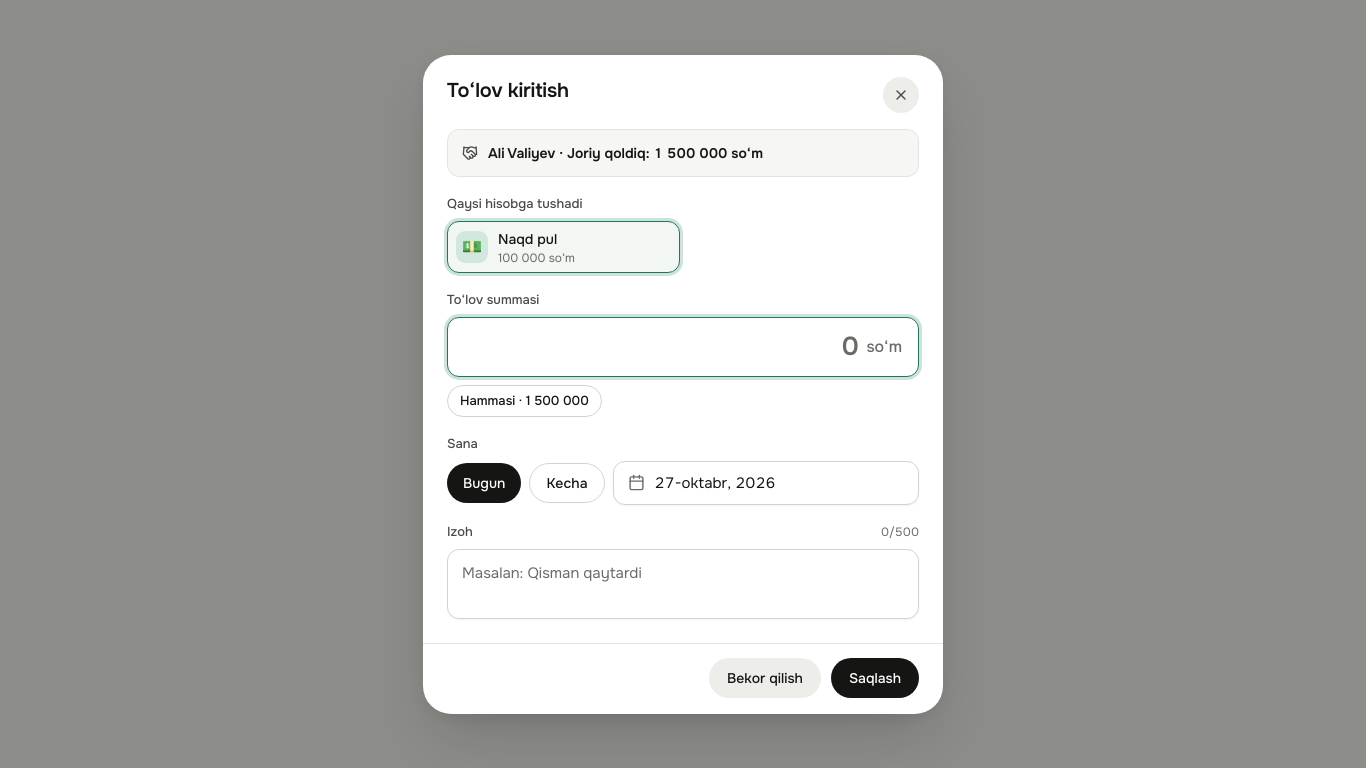
Scenario: DebtPaymentModal › refuses more than what is left before asking the API
Step 1. Type "2000000" into the field labelled "To‘lov summasi" → [661, 346], box x1=464 y1=318 x2=858 y2=376
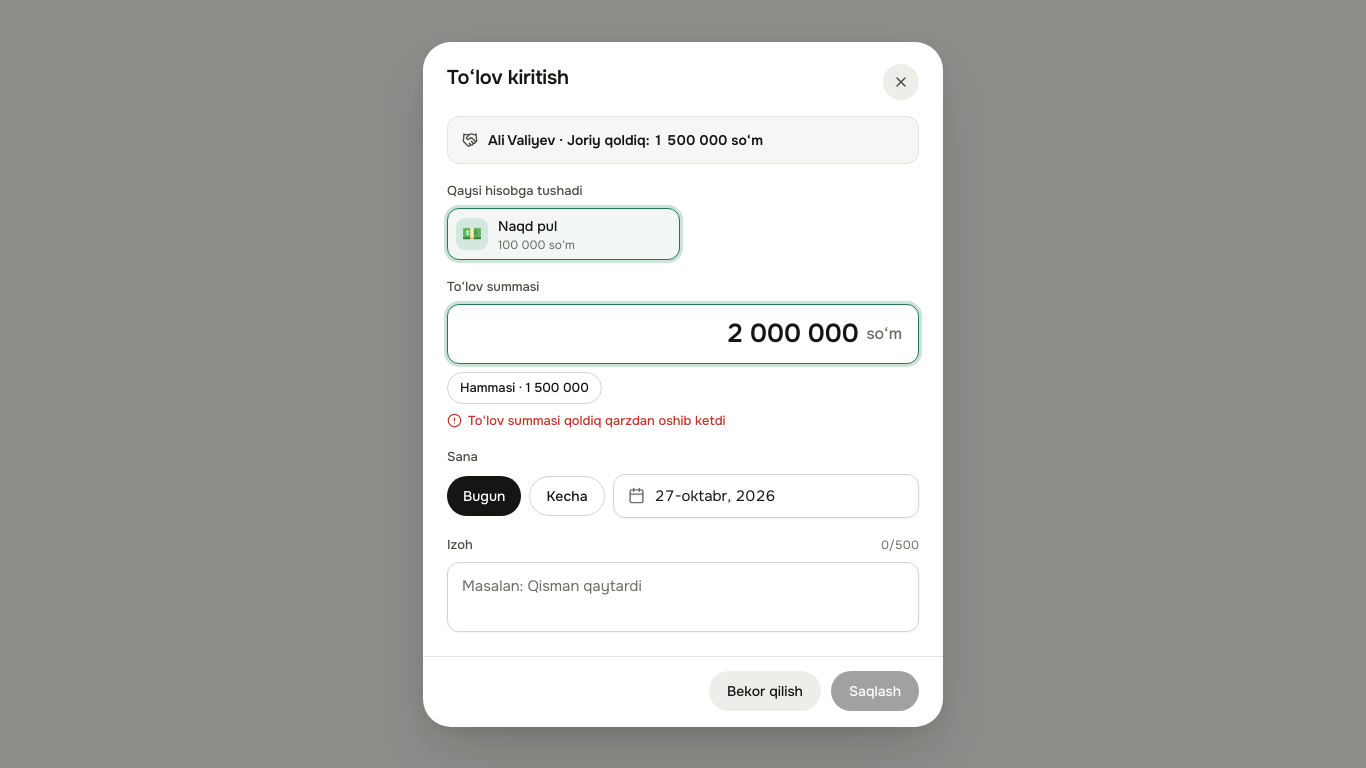
Now the message reads "To‘lov summasi qoldiq qarzdan oshib ketdi", box x1=468 y1=412 x2=726 y2=428
Now the button "Saqlash" is disabled, box x1=831 y1=670 x2=919 y2=710
Step 2. Click the button "Hammasi · 1 500 000" → [524, 388], box x1=447 y1=372 x2=602 y2=404
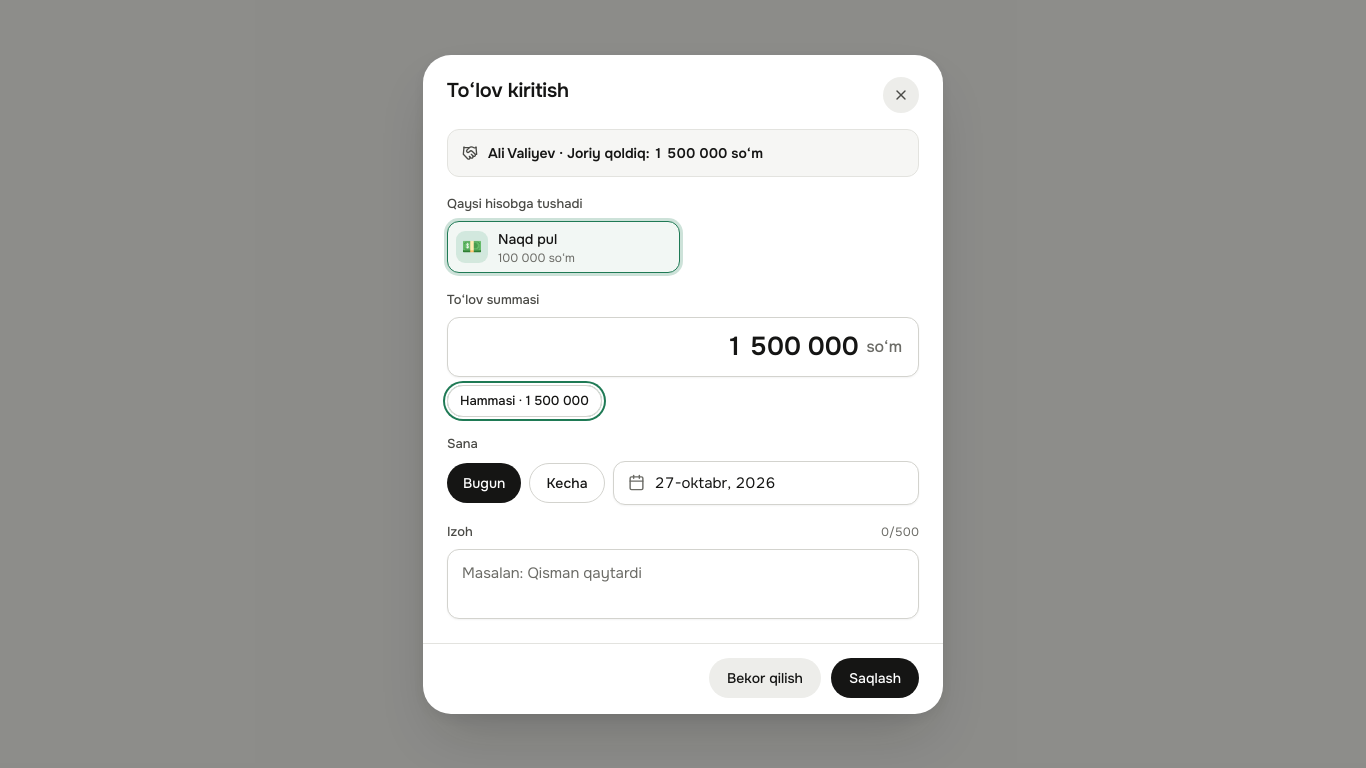
Now the message "To‘lov summasi qoldiq qarzdan oshib ketdi" is gone
